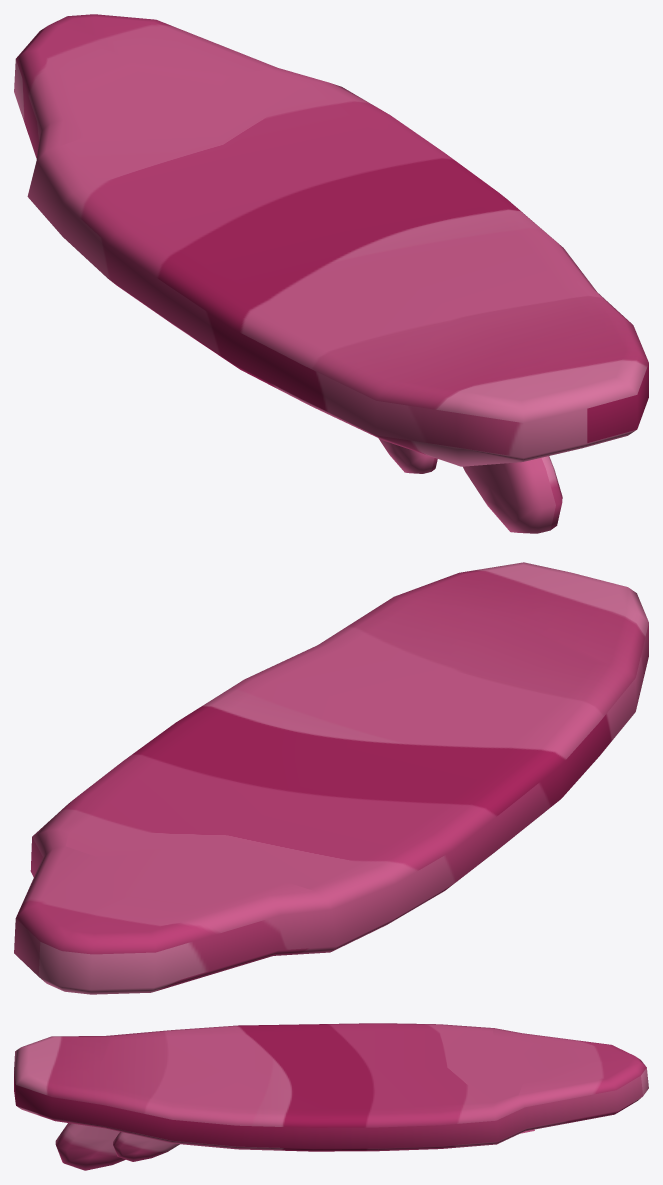
File: surf.fbx
The picture shows the model from 3 angles, top to bottom: view 1: azimuth 30°, elevation 25°; view 2: azimuth 150°, elevation 25°; view 3: azimuth 270°, elevation 25°; orthographic projection. The views are drawn at different scales.
Parts seen in each view (by area): view 1: surf; view 2: surf; view 3: surf.
Part boxes in pixels (box(x1,y1,x2,y2)): surf: box(14, 14, 648, 533); surf: box(14, 562, 648, 994); surf: box(14, 1023, 648, 1170).
Bounding box in the file's own units: 36.5 × 18.11 × 96.38.
